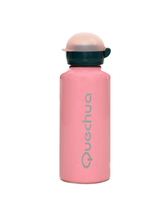other: (55, 29, 114, 186)
